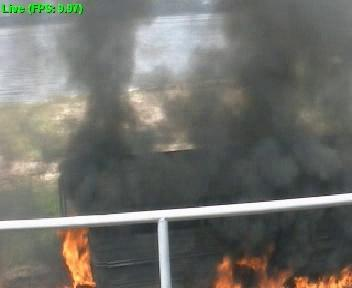fire: (214, 262, 352, 288), (59, 227, 92, 286)
smoke: (234, 3, 345, 186), (82, 7, 128, 222)
